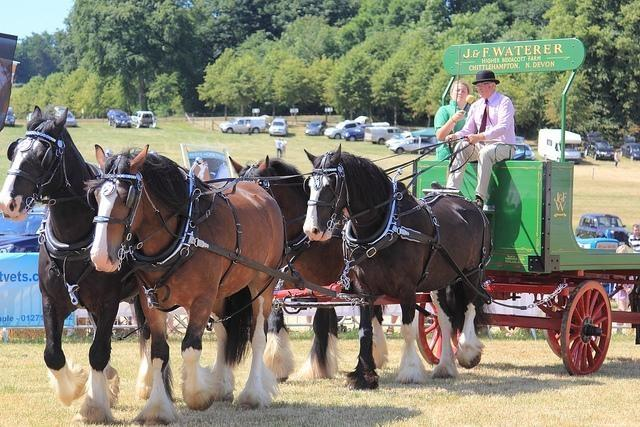car: (389, 137, 435, 155), (220, 117, 266, 134), (582, 138, 616, 160), (323, 119, 362, 138), (342, 124, 374, 142), (130, 110, 158, 128), (54, 106, 77, 126), (108, 109, 132, 128), (385, 132, 414, 147), (619, 141, 640, 161), (514, 142, 536, 160), (305, 120, 328, 136), (270, 118, 288, 136)
truck: (538, 128, 581, 164), (364, 127, 404, 144), (353, 114, 391, 127)
